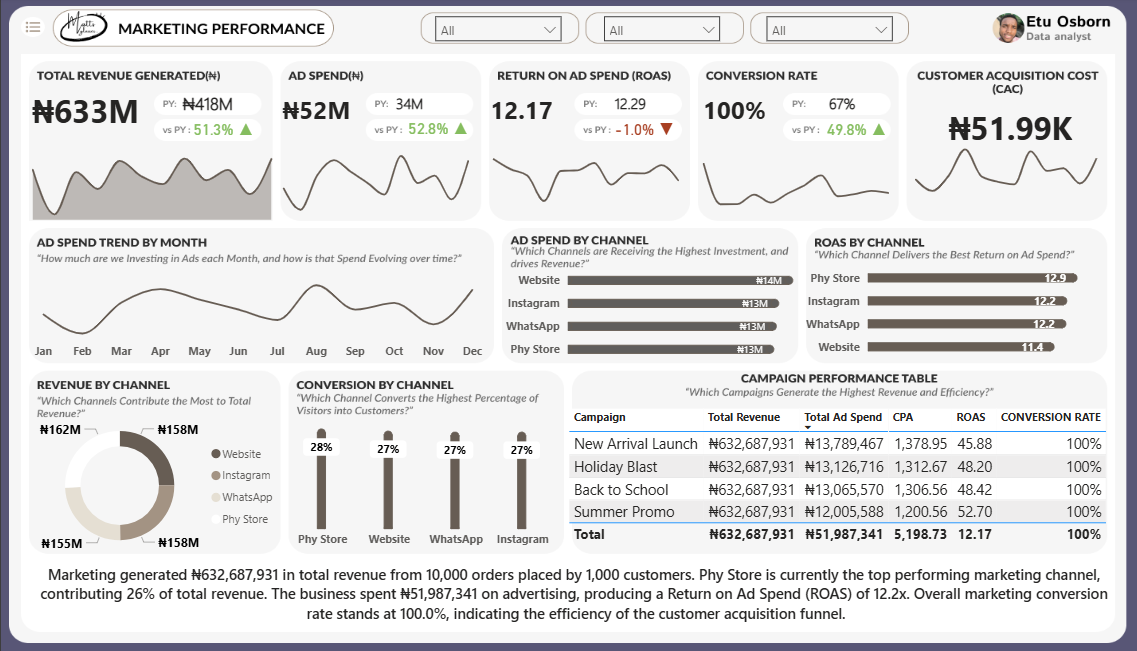

Layout of this report page (visuals, bound fields, positions):
{"tool":"powerbi","page":{"name":"MARKETING PERFORMANCE","canvas":[1280,720],"ordinal":2},"visuals":[{"type":"tableEx","fields":{"Values":["Fact_Marketing.Campaign","DAX MEASURES.Total Revenue","DAX MEASURES.Total Ad Spend","DAX MEASURES.CPA","DAX MEASURES.ROAS","DAX MEASURES.CONVERSION RATE"]},"box":[607.9,448.7,625.7,171.5],"z":0},{"type":"lineChart","fields":{"Y":["DAX MEASURES.Total Ad Spend"],"Category":["Dim_Date.Month"]},"box":[25,296,515,111],"z":1000},{"type":"barChart","fields":{"Category":["Dim_Channel.ChannelName"],"Y":["DAX MEASURES.Total Ad Spend"]},"box":[547,278,357,134],"z":2000},{"type":"card","fields":{"Values":["DAX MEASURES.Total Revenue"]},"box":[18.6,93.3,146.8,63.1],"z":3000},{"type":"card","fields":{"Values":["DAX MEASURES.Revenue PY"]},"box":[187.5,99.3,78.6,40.7],"z":4000},{"type":"card","fields":{"Values":["DAX MEASURES.% YoY REVENUE"]},"box":[203.9,130.8,80,32.5],"z":5000},{"type":"card","fields":{"Values":["DAX MEASURES.Total Ad Spend"]},"box":[303.3,93.3,86.4,63.1],"z":6000},{"type":"card","fields":{"Values":["DAX MEASURES.ROAS"]},"box":[529.7,93.3,83.7,63.1],"z":7000},{"type":"card","fields":{"Values":["DAX MEASURES.CONVERSION RATE"]},"box":[764.3,93.3,82.3,63.1],"z":8000},{"type":"card","fields":{"Values":["DAX MEASURES.CAC"]},"box":[1034.7,112.5,146.8,63.1],"z":9000},{"type":"areaChart","fields":{"Y":["DAX MEASURES.Total Revenue"],"Category":["Dim_Date.Month"]},"box":[20.6,141.3,290.9,108.4],"z":10000},{"type":"card","fields":{"Values":["DAX MEASURES.ROAS PY"]},"box":[663.5,98.8,53.5,41.2],"z":11000},{"type":"card","fields":{"Values":["DAX MEASURES.Ad Spend PY"]},"box":[425.4,98.8,46.7,41.2],"z":12000},{"type":"card","fields":{"Values":["DAX MEASURES.Conversion Rate PY"]},"box":[896.8,98.8,52.1,41.2],"z":13000},{"type":"card","fields":{"Values":["DAX MEASURES.% YoY Ad Spend"]},"box":[440.5,129,79.6,32.9],"z":14000},{"type":"card","fields":{"Values":["DAX MEASURES.% YoY Conversion Rate"]},"box":[900.2,130.4,79.6,32.9],"z":15000},{"type":"card","fields":{"Values":["DAX MEASURES.% YoY ROAS"]},"box":[662.8,130.4,87.8,32.9],"z":16000},{"type":"slicer","fields":{"Values":["Dim_Date.Year"]},"box":[472,16.5,148.2,41.2],"z":17000},{"type":"slicer","fields":{"Values":["Dim_Products.Category"]},"box":[835.7,16.5,148.2,41.2],"z":18000},{"type":"lineChart","fields":{"Category":["Dim_Date.MonthNo"],"Y":["DAX MEASURES.Total Ad Spend"]},"box":[277.2,153.7,306,94.7],"z":19000},{"type":"lineChart","fields":{"Category":["Dim_Date.MonthNo"],"Y":["DAX MEASURES.ROAS"]},"box":[507.7,146.8,306,94.7],"z":20000},{"type":"lineChart","fields":{"Category":["Dim_Date.MonthNo"],"Y":["DAX MEASURES.CONVERSION RATE"]},"box":[738.3,153.7,306,94.7],"z":21000},{"type":"lineChart","fields":{"Category":["Dim_Date.MonthNo"],"Y":["DAX MEASURES.CAC"]},"box":[971,140,300,108],"z":22000},{"type":"barChart","fields":{"Category":["Dim_Channel.ChannelName"],"Y":["DAX MEASURES.ROAS"]},"box":[877,276,403,134],"z":23000},{"type":"donutChart","fields":{"Category":["Dim_Channel.ChannelName"],"Y":["DAX MEASURES.Total Revenue"]},"box":[30.2,443.2,277.2,186.6],"z":24000},{"type":"columnChart","fields":{"Y":["DAX MEASURES.CONVERSION RATE"],"Category":["Dim_Channel.ChannelName"]},"box":[289.5,443.2,347.2,170.2],"z":25000},{"type":"card","fields":{"Values":["DAX MEASURES.MARKETING INTELLIGENCE"]},"box":[30.2,596.9,1202.1,109.8],"z":26000},{"type":"slicer","fields":{"Values":["Dim_Products.SubCategory"]},"box":[657.3,16.5,137.2,41.2],"z":27000}]}

Visuals, with their boxes in screenshot pixels (x1, y1, x2, y2), scaled from the page's 1280x720 canvas onto the 1137x651 screenshot:
tableEx - Fact_Marketing.Campaign x DAX MEASURES.Total Revenue: (left=540, top=406, right=1096, bottom=561)
lineChart - DAX MEASURES.Total Ad Spend x Dim_Date.Month: (left=22, top=268, right=480, bottom=368)
barChart - Dim_Channel.ChannelName x DAX MEASURES.Total Ad Spend: (left=486, top=251, right=803, bottom=373)
card - DAX MEASURES.Total Revenue: (left=17, top=84, right=147, bottom=141)
card - DAX MEASURES.Revenue PY: (left=167, top=90, right=236, bottom=127)
card - DAX MEASURES.% YoY REVENUE: (left=181, top=118, right=252, bottom=148)
card - DAX MEASURES.Total Ad Spend: (left=269, top=84, right=346, bottom=141)
card - DAX MEASURES.ROAS: (left=471, top=84, right=545, bottom=141)
card - DAX MEASURES.CONVERSION RATE: (left=679, top=84, right=752, bottom=141)
card - DAX MEASURES.CAC: (left=919, top=102, right=1050, bottom=159)
areaChart - DAX MEASURES.Total Revenue x Dim_Date.Month: (left=18, top=128, right=277, bottom=226)
card - DAX MEASURES.ROAS PY: (left=589, top=89, right=637, bottom=127)
card - DAX MEASURES.Ad Spend PY: (left=378, top=89, right=419, bottom=127)
card - DAX MEASURES.Conversion Rate PY: (left=797, top=89, right=843, bottom=127)
card - DAX MEASURES.% YoY Ad Spend: (left=391, top=117, right=462, bottom=146)
card - DAX MEASURES.% YoY Conversion Rate: (left=800, top=118, right=870, bottom=148)
card - DAX MEASURES.% YoY ROAS: (left=589, top=118, right=667, bottom=148)
slicer - Dim_Date.Year: (left=419, top=15, right=551, bottom=52)
slicer - Dim_Products.Category: (left=742, top=15, right=874, bottom=52)
lineChart - Dim_Date.MonthNo x DAX MEASURES.Total Ad Spend: (left=246, top=139, right=518, bottom=225)
lineChart - Dim_Date.MonthNo x DAX MEASURES.ROAS: (left=451, top=133, right=723, bottom=218)
lineChart - Dim_Date.MonthNo x DAX MEASURES.CONVERSION RATE: (left=656, top=139, right=928, bottom=225)
lineChart - Dim_Date.MonthNo x DAX MEASURES.CAC: (left=863, top=127, right=1129, bottom=224)
barChart - Dim_Channel.ChannelName x DAX MEASURES.ROAS: (left=779, top=250, right=1136, bottom=371)
donutChart - Dim_Channel.ChannelName x DAX MEASURES.Total Revenue: (left=27, top=401, right=273, bottom=569)
columnChart - DAX MEASURES.CONVERSION RATE x Dim_Channel.ChannelName: (left=257, top=401, right=566, bottom=555)
card - DAX MEASURES.MARKETING INTELLIGENCE: (left=27, top=540, right=1095, bottom=639)
slicer - Dim_Products.SubCategory: (left=584, top=15, right=706, bottom=52)
